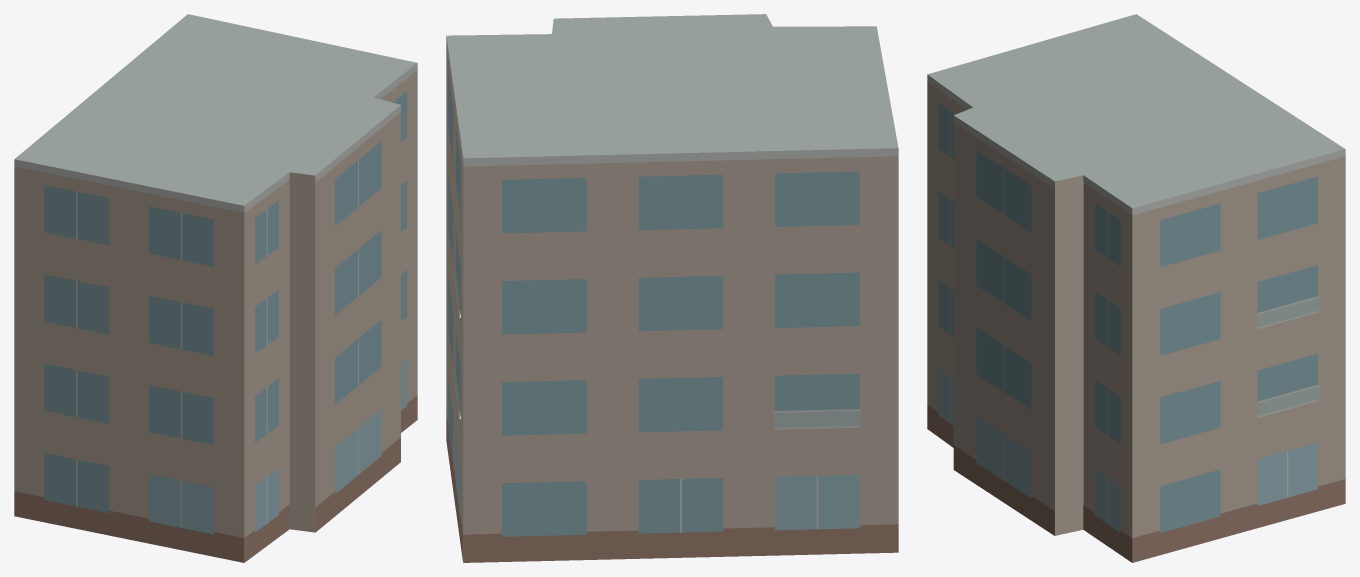
File: survey-upis-32967275.glb
The picture shows the model from 3 angles, left to right: view 1: azimuth 30°, elevation 25°; view 2: azimuth 150°, elevation 25°; view 3: azimuth 270°, elevation 25°; orthographic projection. The views are drawn at different scales.
Parts seen in each view (by area): view 1: survey-upis-32967275.tmp; view 2: survey-upis-32967275.tmp; view 3: survey-upis-32967275.tmp.
Part boxes in pixels (<box>): survey-upis-32967275.tmp: <box>14,14,417,562</box>; survey-upis-32967275.tmp: <box>446,14,898,562</box>; survey-upis-32967275.tmp: <box>927,14,1345,562</box>.
Size of the model in its own units: 14.35 by 12.2 by 13.06.
